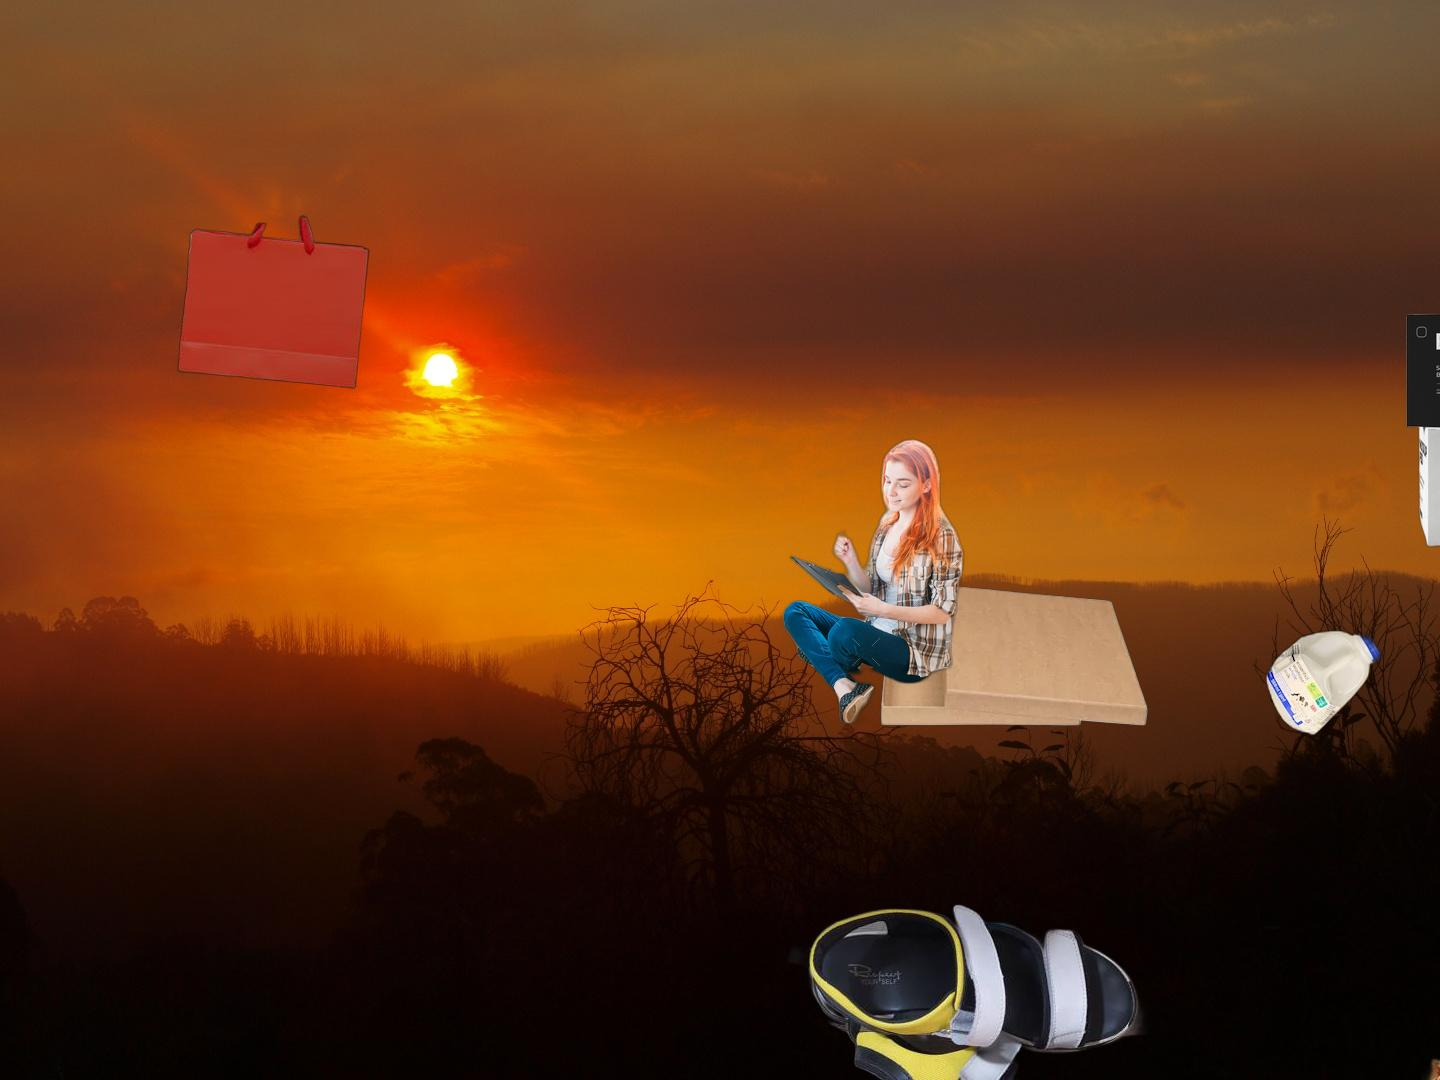biological: (1421, 984, 1440, 1080)
paper-bag: (175, 213, 372, 391)
plastic-bottles: (1261, 624, 1384, 740)
shoes: (785, 900, 1166, 1080)
trashbox-cardboard: (776, 437, 968, 728), (879, 583, 1149, 728), (1403, 307, 1440, 548)
